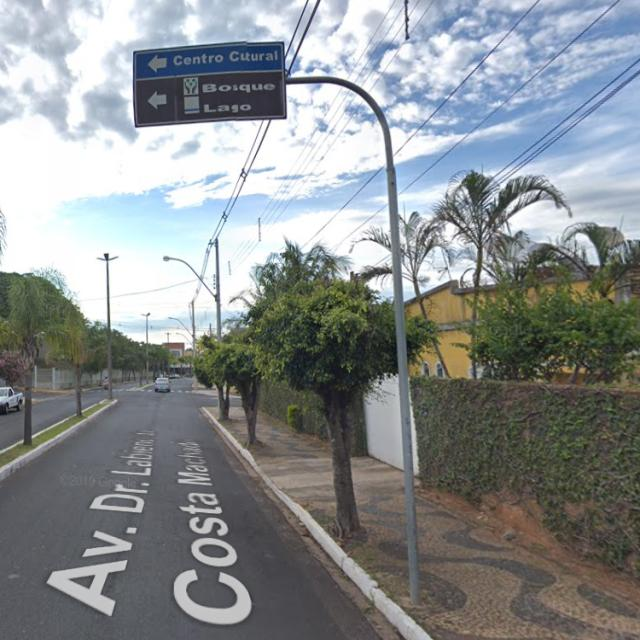indication: (113, 36, 303, 135)
